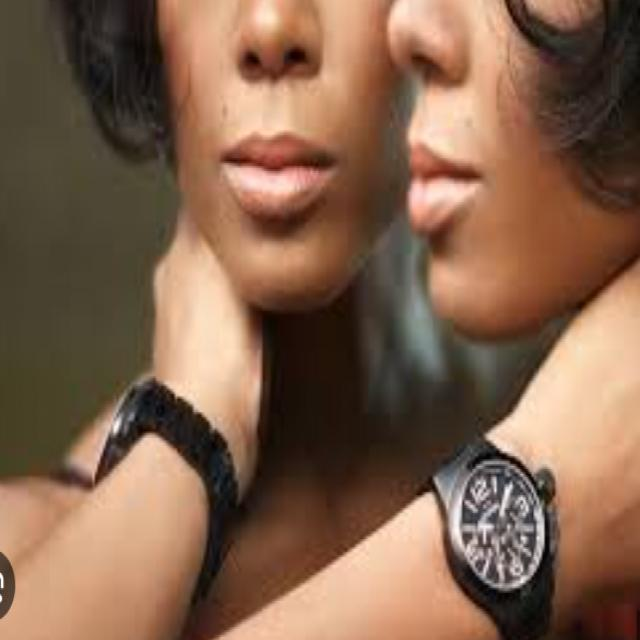Watch: (425, 431, 567, 638), (99, 374, 240, 574)
